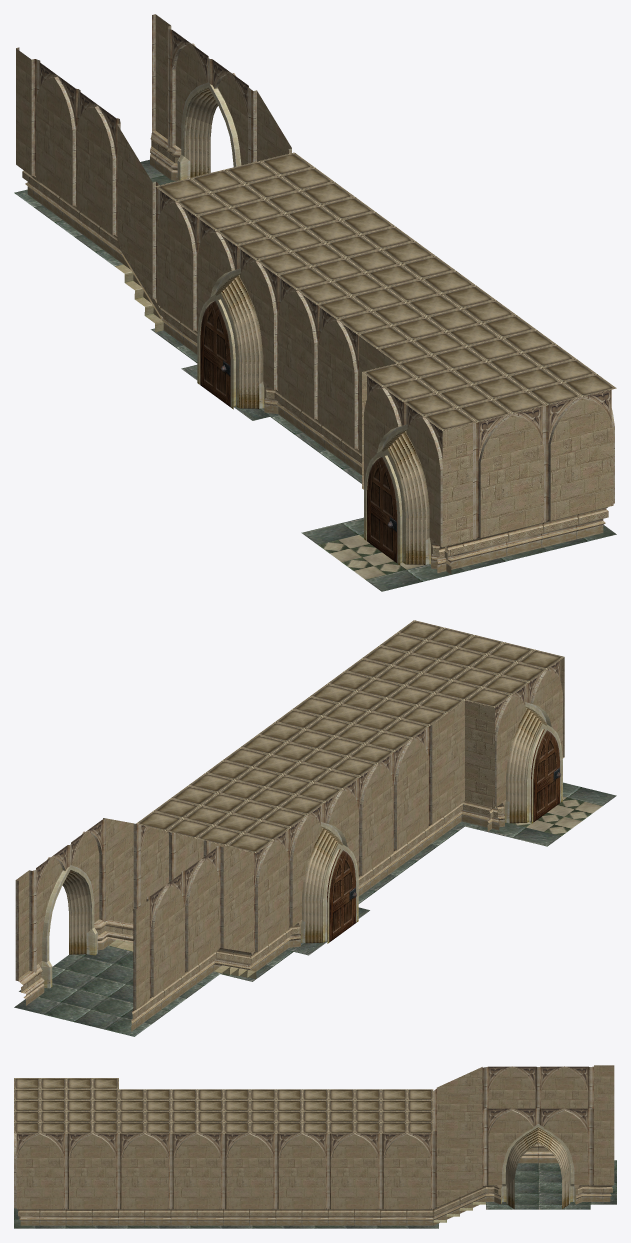
The model's file is hogwarts_corridor.glb.
The picture shows the model from 3 angles, top to bottom: view 1: azimuth 30°, elevation 25°; view 2: azimuth 150°, elevation 25°; view 3: azimuth 270°, elevation 25°; orthographic projection. The views are drawn at different scales.
Parts seen in each view (by area): view 1: Mesh_0110_Tex_0035_1.dds_0, Mesh_0131_Tex_0009_1.dds_0, Mesh_0079_Tex_0009_1.dds_0, Mesh_0109_Tex_0009_1.dds_0, Mesh_0118_Tex_0009_1.dds_0, Mesh_0070_Tex_0009_1.dds_0, Mesh_0085_Tex_0005_1.dds_0, Mesh_0108_Tex_0010_0.dds_0, Mesh_0139_Tex_0011_0.dds_0, Mesh_0128_Tex_0007_0.dds_0, Mesh_0121_Tex_0011_0.dds_0, Mesh_0075_Tex_0007_0.dds_0 (+22 smaller); view 2: Mesh_0110_Tex_0035_1.dds_0, Mesh_0131_Tex_0009_1.dds_0, Mesh_0079_Tex_0009_1.dds_0, Mesh_0065_Tex_0005_1.dds_0, Mesh_0070_Tex_0009_1.dds_0, Mesh_0118_Tex_0009_1.dds_0, Mesh_0085_Tex_0005_1.dds_0, Mesh_0130_Tex_0010_0.dds_0, Mesh_0128_Tex_0007_0.dds_0, Mesh_0127_Tex_0009_1.dds_0, Mesh_0068_Tex_0007_0.dds_0, Mesh_0121_Tex_0011_0.dds_0 (+18 smaller); view 3: Mesh_0127_Tex_0009_1.dds_0, Mesh_0110_Tex_0035_1.dds_0, Mesh_0070_Tex_0009_1.dds_0, Mesh_0126_Tex_0010_0.dds_0, Mesh_0079_Tex_0009_1.dds_0, Mesh_0124_Tex_0007_0.dds_0, Mesh_0125_Tex_0008_1.dds_0, Mesh_0065_Tex_0005_1.dds_0, Mesh_0085_Tex_0005_1.dds_0, Mesh_0071_Tex_0010_0.dds_0, Mesh_0068_Tex_0007_0.dds_0, Mesh_0074_Tex_0012_0.dds_0 (+5 smaller).
Boxes of the visible parts, x1,y1,x2,y2 form: Mesh_0110_Tex_0035_1.dds_0: [155, 152, 616, 430]; Mesh_0131_Tex_0009_1.dds_0: [157, 202, 396, 453]; Mesh_0079_Tex_0009_1.dds_0: [16, 48, 152, 298]; Mesh_0109_Tex_0009_1.dds_0: [480, 398, 613, 537]; Mesh_0118_Tex_0009_1.dds_0: [362, 372, 472, 554]; Mesh_0070_Tex_0009_1.dds_0: [155, 14, 291, 165]; Mesh_0085_Tex_0005_1.dds_0: [151, 328, 616, 591]; Mesh_0108_Tex_0010_0.dds_0: [472, 507, 608, 564]; Mesh_0139_Tex_0011_0.dds_0: [197, 293, 264, 409]; Mesh_0128_Tex_0007_0.dds_0: [170, 202, 358, 448]; Mesh_0121_Tex_0011_0.dds_0: [364, 449, 430, 565]; Mesh_0075_Tex_0007_0.dds_0: [16, 47, 160, 298]; Mesh_0110_Tex_0035_1.dds_0: [136, 620, 564, 852]; Mesh_0131_Tex_0009_1.dds_0: [258, 700, 464, 951]; Mesh_0079_Tex_0009_1.dds_0: [136, 847, 253, 1009]; Mesh_0065_Tex_0005_1.dds_0: [14, 945, 220, 1036]; Mesh_0070_Tex_0009_1.dds_0: [16, 818, 133, 977]; Mesh_0118_Tex_0009_1.dds_0: [465, 657, 564, 814]; Mesh_0085_Tex_0005_1.dds_0: [228, 782, 616, 981]; Mesh_0130_Tex_0010_0.dds_0: [248, 803, 462, 971]; Mesh_0128_Tex_0007_0.dds_0: [251, 724, 432, 954]; Mesh_0127_Tex_0009_1.dds_0: [141, 827, 237, 905]; Mesh_0068_Tex_0007_0.dds_0: [15, 818, 140, 981]; Mesh_0121_Tex_0011_0.dds_0: [505, 723, 562, 823]; Mesh_0127_Tex_0009_1.dds_0: [16, 1134, 430, 1209]; Mesh_0110_Tex_0035_1.dds_0: [14, 1078, 433, 1133]; Mesh_0070_Tex_0009_1.dds_0: [436, 1109, 614, 1207]; Mesh_0126_Tex_0010_0.dds_0: [18, 1208, 433, 1225]; Mesh_0079_Tex_0009_1.dds_0: [436, 1065, 614, 1131]; Mesh_0124_Tex_0007_0.dds_0: [16, 1133, 433, 1209]; Mesh_0125_Tex_0008_1.dds_0: [16, 1133, 430, 1158]; Mesh_0065_Tex_0005_1.dds_0: [486, 1160, 616, 1209]; Mesh_0085_Tex_0005_1.dds_0: [14, 1208, 438, 1228]; Mesh_0071_Tex_0010_0.dds_0: [433, 1184, 612, 1225]; Mesh_0068_Tex_0007_0.dds_0: [433, 1108, 593, 1209]; Mesh_0074_Tex_0012_0.dds_0: [505, 1124, 570, 1168].
Bounding box in the file's own units: 1819 × 1270 × 5842.
65 materials, 65 textured.
